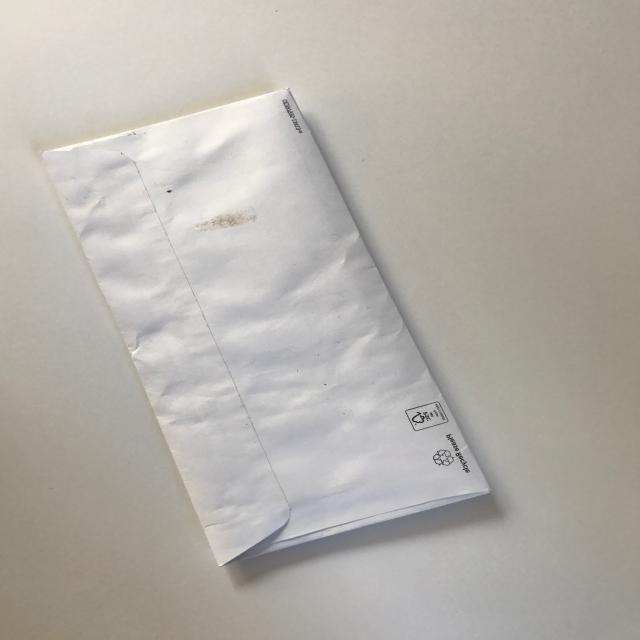paper: (21, 73, 522, 578)
